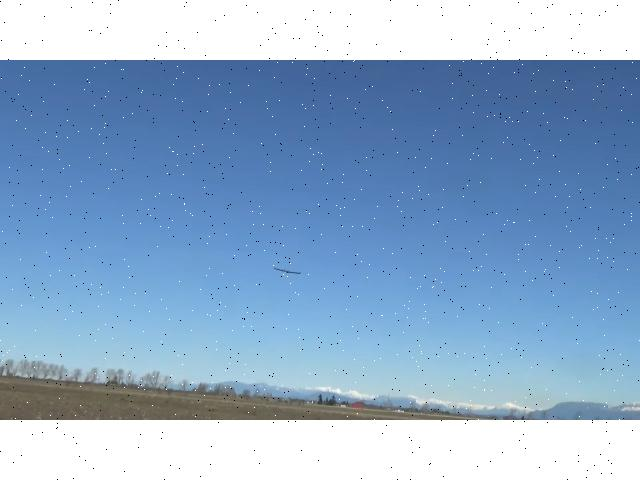Anti-Drone: (264, 260, 312, 282)
